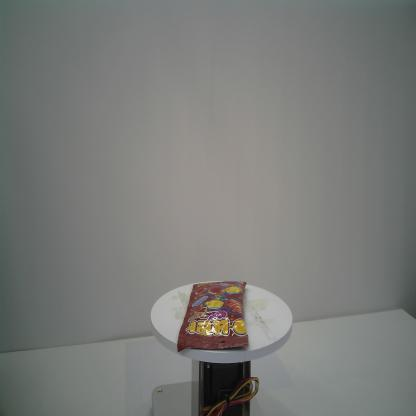Candy: (177, 280, 249, 356)
